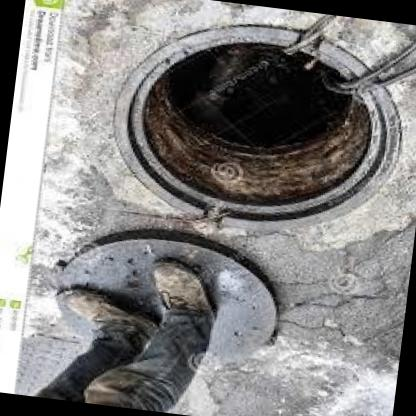manholes: (80, 0, 416, 290)
